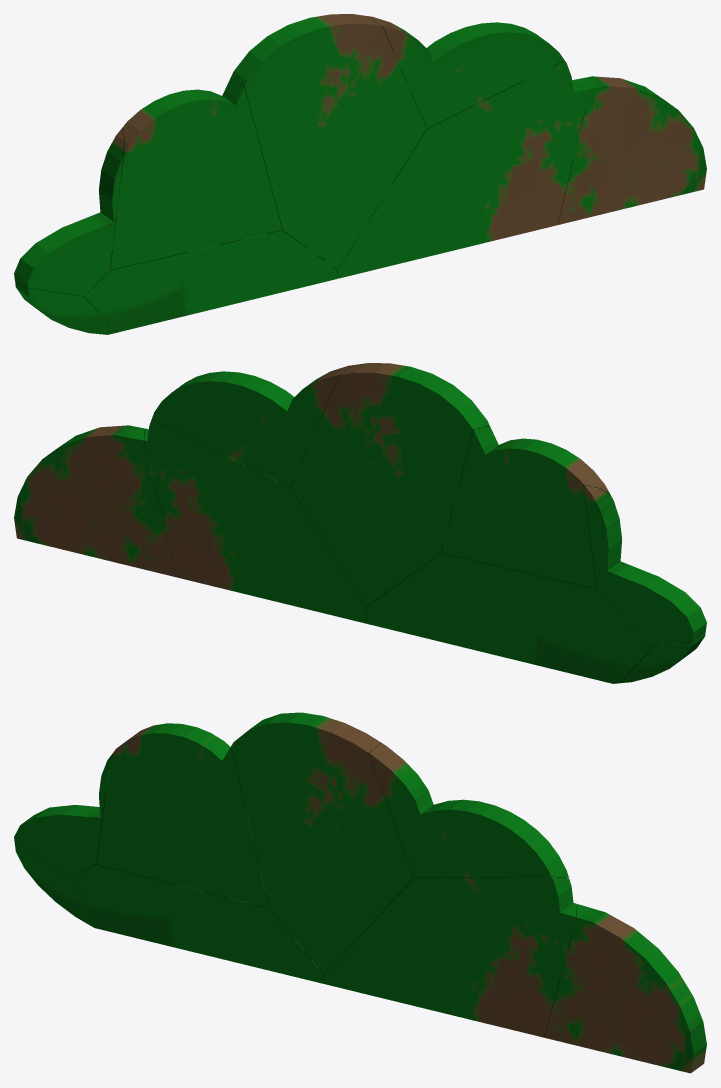
The model's file is Arbusto1.fbx.
3 views of the same model, one above another, from view 1: azimuth 30°, elevation 25°; view 2: azimuth 150°, elevation 25°; view 3: azimuth 330°, elevation 25° (orthographic).
Visible parts, largest first — view 1: arbusto 1_cell, arbusto 1_cell.007, arbusto 1_cell.003, arbusto 1_cell.001, arbusto 1_cell.004, arbusto 1_cell.002, arbusto 1_cell.005, arbusto 1_cell.006; view 2: arbusto 1_cell, arbusto 1_cell.007, arbusto 1_cell.004, arbusto 1_cell.003, arbusto 1_cell.001, arbusto 1_cell.002, arbusto 1_cell.005, arbusto 1_cell.006; view 3: arbusto 1_cell, arbusto 1_cell.007, arbusto 1_cell.003, arbusto 1_cell.001, arbusto 1_cell.004, arbusto 1_cell.002, arbusto 1_cell.005, arbusto 1_cell.006.
Part boxes in pixels (bbox=[...]): arbusto 1_cell: bbox=[234, 14, 426, 269]; arbusto 1_cell.007: bbox=[337, 60, 589, 278]; arbusto 1_cell.003: bbox=[110, 71, 282, 269]; arbusto 1_cell.001: bbox=[557, 76, 706, 224]; arbusto 1_cell.004: bbox=[84, 229, 337, 332]; arbusto 1_cell.002: bbox=[368, 16, 564, 128]; arbusto 1_cell.005: bbox=[14, 126, 123, 296]; arbusto 1_cell.006: bbox=[15, 282, 116, 334]; arbusto 1_cell: bbox=[290, 363, 489, 606]; arbusto 1_cell.007: bbox=[144, 419, 366, 623]; arbusto 1_cell.004: bbox=[366, 553, 652, 683]; arbusto 1_cell.003: bbox=[441, 426, 610, 589]; arbusto 1_cell.001: bbox=[14, 425, 176, 577]; arbusto 1_cell.002: bbox=[152, 365, 351, 487]; arbusto 1_cell.005: bbox=[584, 485, 706, 646]; arbusto 1_cell.006: bbox=[620, 627, 706, 683]; arbusto 1_cell: bbox=[231, 712, 414, 974]; arbusto 1_cell.007: bbox=[324, 876, 576, 1037]; arbusto 1_cell.003: bbox=[97, 723, 269, 908]; arbusto 1_cell.001: bbox=[544, 904, 706, 1073]; arbusto 1_cell.004: bbox=[71, 864, 324, 983]; arbusto 1_cell.002: bbox=[369, 743, 568, 877]; arbusto 1_cell.005: bbox=[14, 756, 110, 877]; arbusto 1_cell.006: bbox=[14, 842, 103, 929].
Bounding box in the file's own units: 520 × 186 × 17.73.
